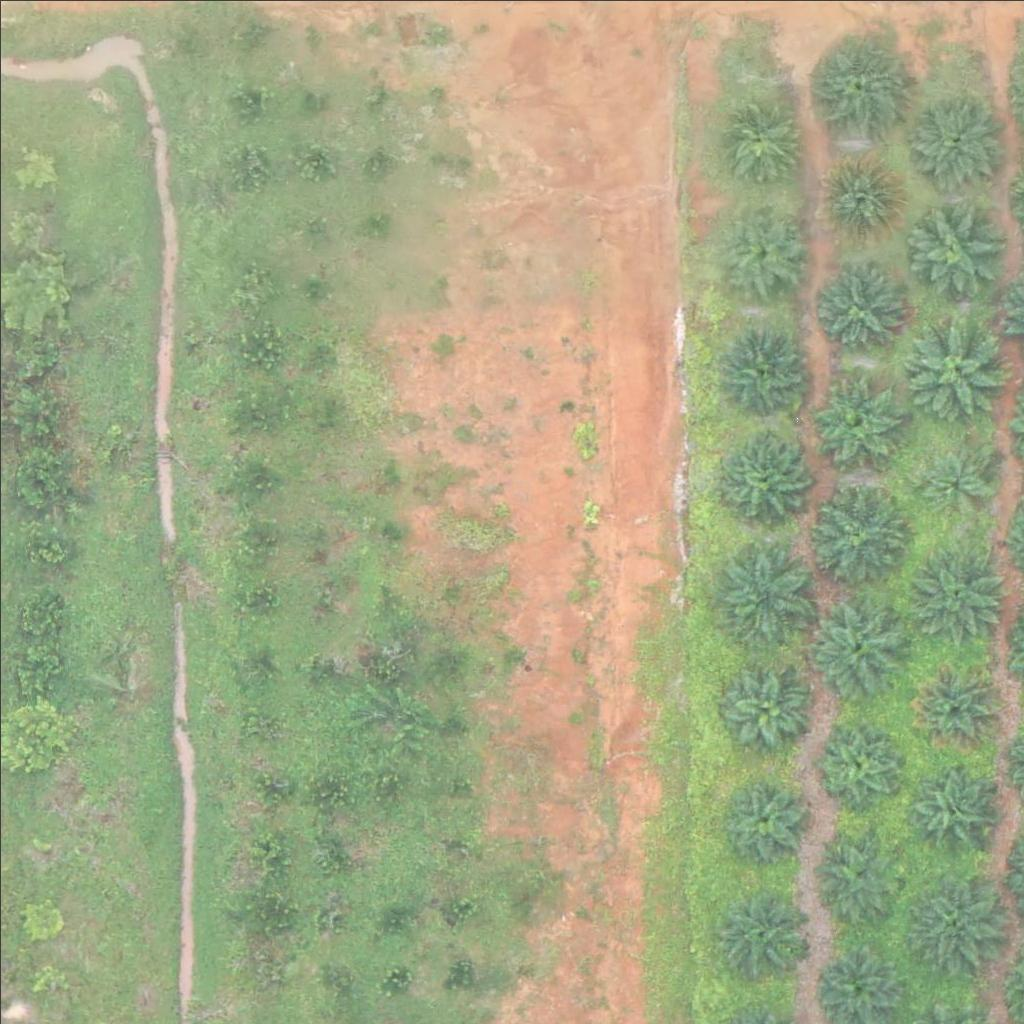Kelapa_Sawit: (903, 867, 1003, 968), (899, 316, 999, 417), (901, 195, 1001, 296), (903, 91, 1003, 192), (804, 37, 904, 138), (714, 547, 814, 647), (809, 595, 909, 695), (807, 481, 907, 581), (904, 543, 1004, 643), (713, 888, 801, 976), (717, 774, 805, 862), (716, 664, 804, 752), (809, 377, 897, 465), (815, 267, 903, 355), (815, 156, 903, 244), (710, 93, 798, 181), (812, 832, 899, 920), (907, 760, 994, 848), (717, 427, 804, 515), (716, 330, 803, 418), (717, 204, 804, 292), (815, 721, 902, 809), (911, 663, 998, 751), (917, 439, 992, 515)
